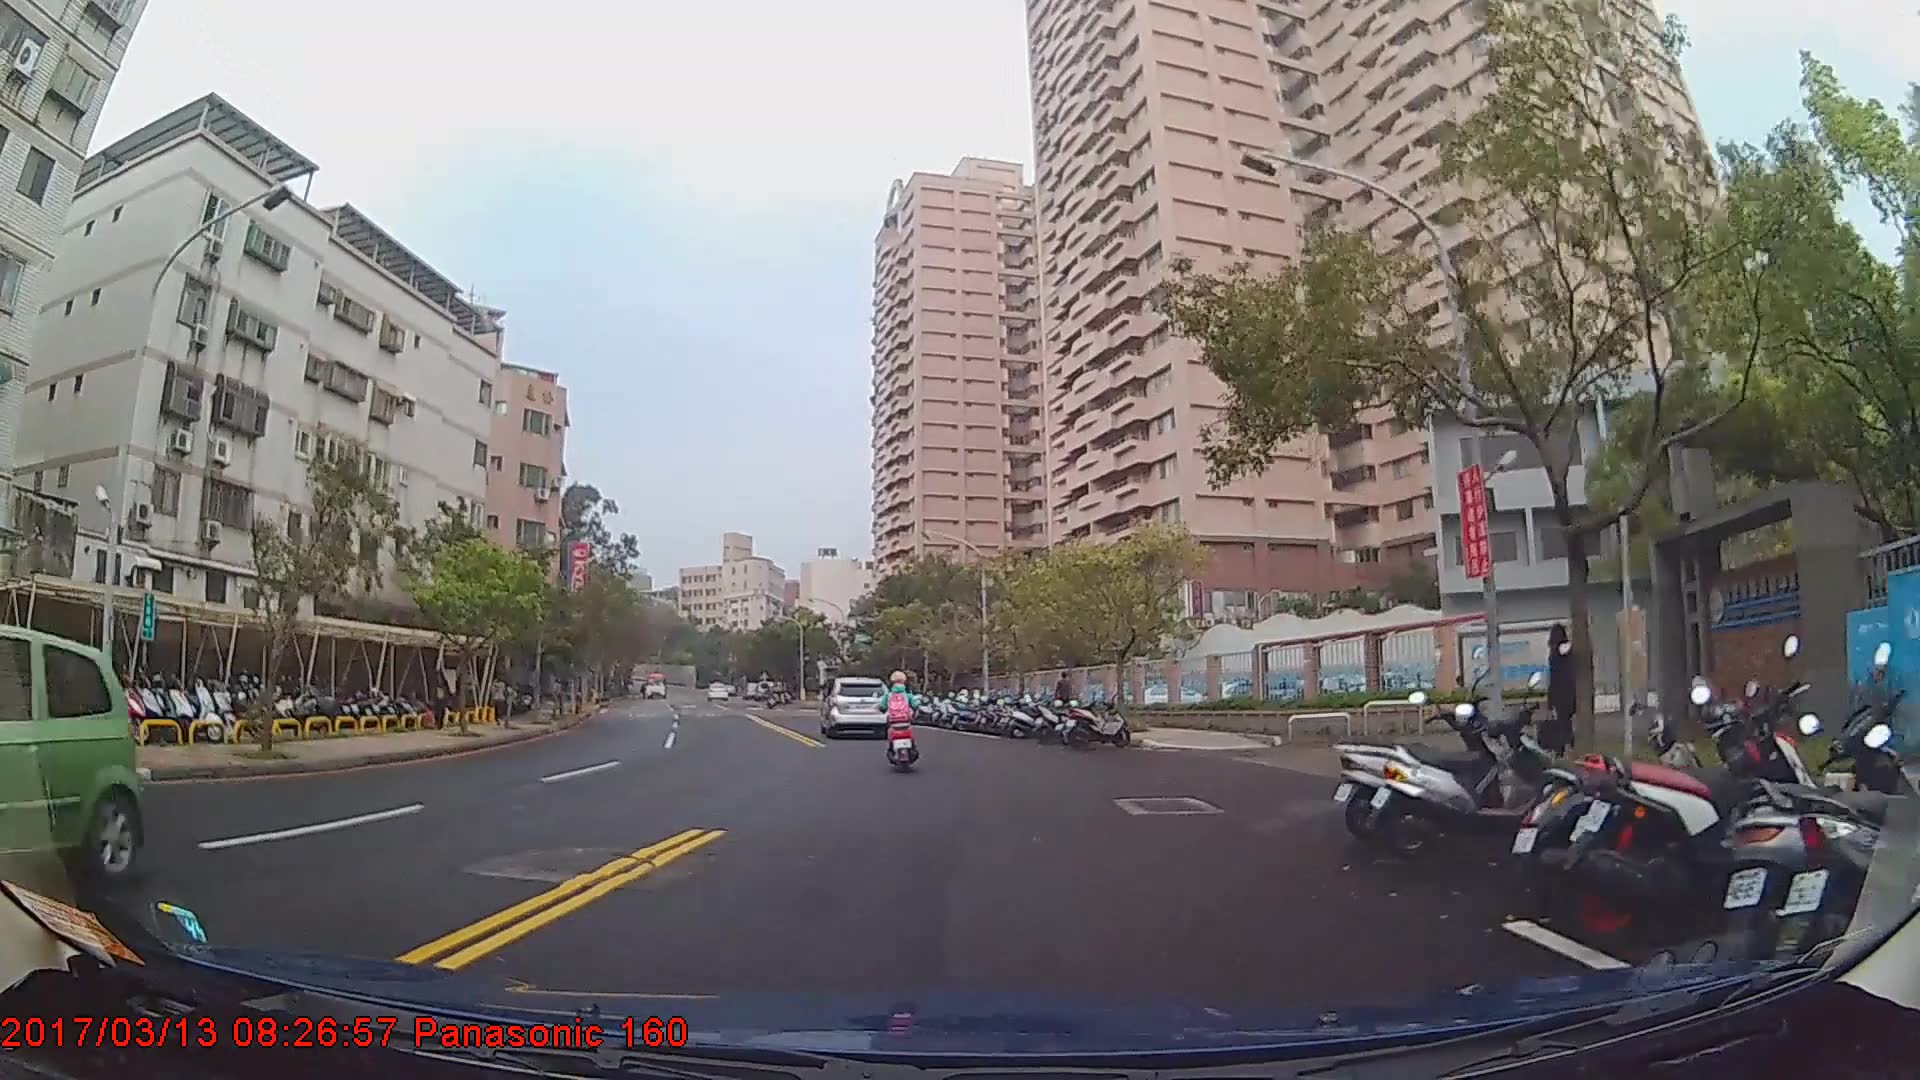pedestrian: (1546, 622, 1588, 769), (427, 671, 453, 729), (1056, 671, 1077, 728)
rider: (881, 669, 925, 766)
vehicle: (0, 624, 139, 886), (818, 672, 892, 737), (641, 667, 671, 698)
